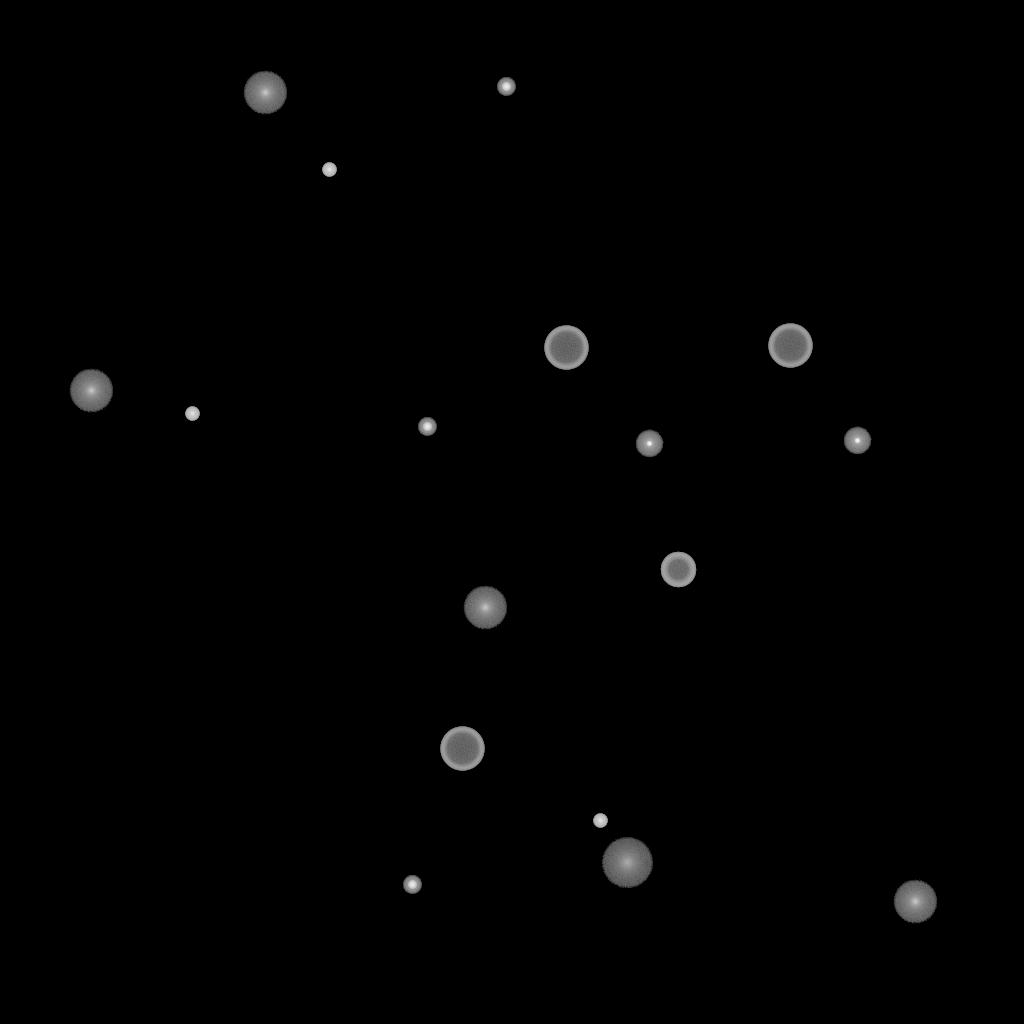depth:-10: (635, 430, 663, 458), (843, 427, 871, 455)
depth:-20: (403, 876, 421, 894), (497, 78, 515, 96), (418, 418, 436, 436)
depth:-30: (322, 163, 336, 177), (185, 407, 199, 421), (593, 814, 607, 828)
depth:-60: (660, 552, 696, 588)
depth:-70: (544, 326, 588, 370), (440, 727, 484, 771), (768, 324, 812, 368)
depth:10: (463, 586, 507, 630), (893, 880, 937, 924), (243, 71, 287, 115), (69, 369, 113, 413)
depth:20: (601, 838, 653, 888)
